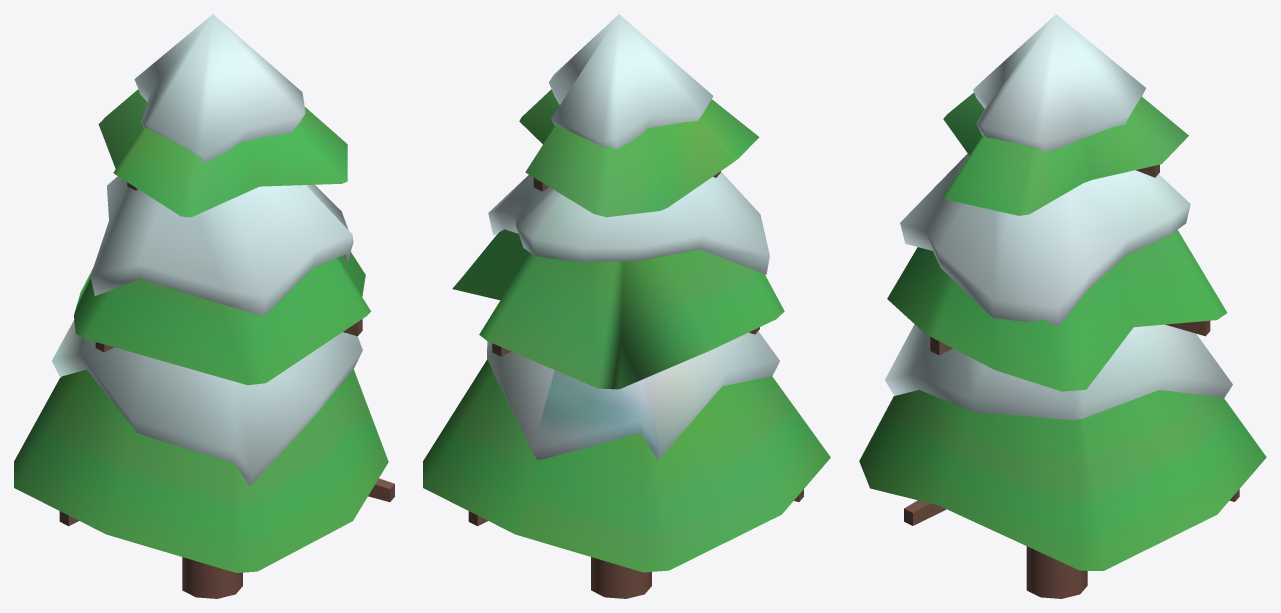
The picture shows the model from 3 angles, left to right: view 1: azimuth 30°, elevation 25°; view 2: azimuth 150°, elevation 25°; view 3: azimuth 270°, elevation 25°; orthographic projection.
Parts seen in each view (by area): view 1: крона, Cone.003, Cylinder.001, Cone.001, снег, Cone, ствол, ветки; view 2: крона, Cone.001, Cylinder.001, Cone.003, Cone, снег, ствол, ветки; view 3: крона, Cone.003, Cone.001, Cylinder.001, снег, Cone, ствол, ветки.
Boxes of the visible parts, x1,y1,x2,y2 form: крона: [14, 369, 388, 572]; Cone.003: [90, 176, 353, 316]; Cylinder.001: [52, 320, 362, 486]; Cone.001: [74, 252, 370, 385]; снег: [134, 14, 305, 162]; Cone: [98, 89, 347, 217]; ствол: [182, 557, 242, 598]; ветки: [59, 182, 394, 526]; крона: [423, 359, 830, 572]; Cone.001: [452, 229, 784, 389]; Cylinder.001: [487, 331, 779, 460]; Cone.003: [488, 172, 769, 274]; Cone: [519, 89, 759, 217]; снег: [549, 14, 713, 149]; ствол: [591, 557, 651, 598]; ветки: [468, 171, 803, 526]; крона: [859, 389, 1266, 570]; Cone.003: [900, 153, 1190, 326]; Cone.001: [887, 230, 1227, 391]; Cylinder.001: [885, 324, 1232, 420]; снег: [973, 14, 1145, 152]; Cone: [943, 92, 1188, 215]; ствол: [1026, 546, 1087, 598]; ветки: [904, 164, 1239, 525].
Bounding box in the file's own units: 170 × 262 × 169.
